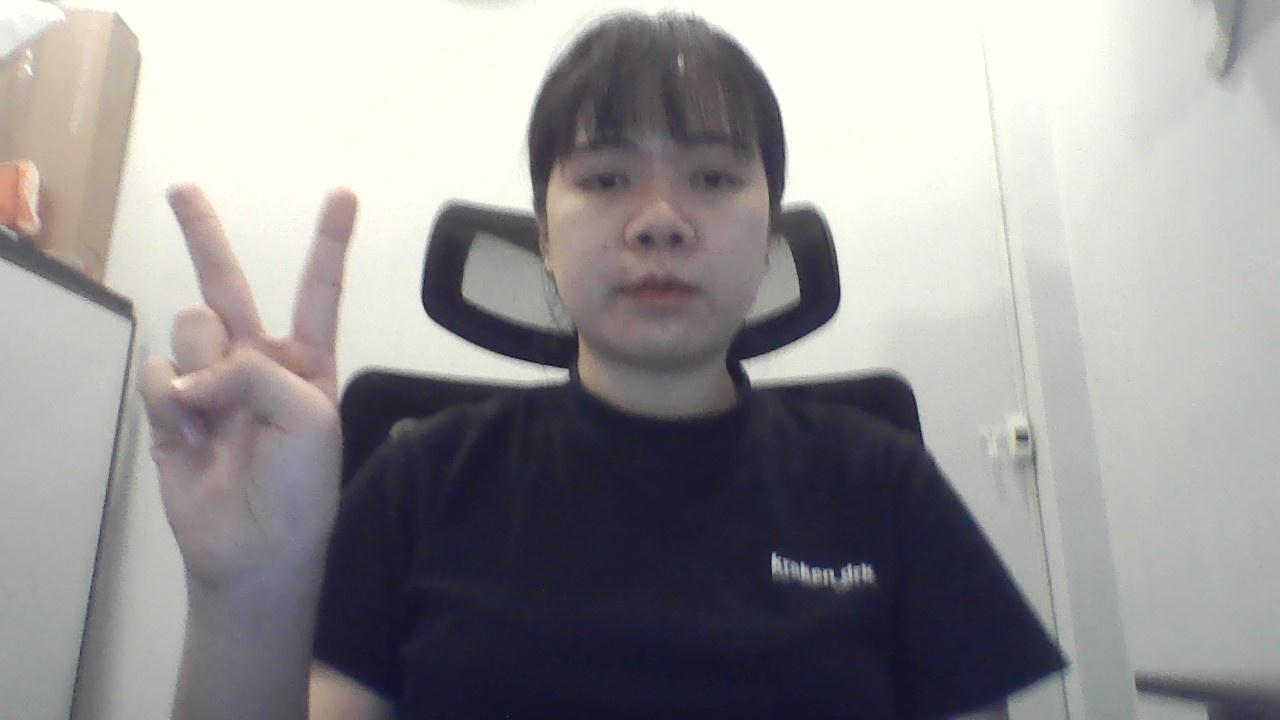V: (132, 167, 368, 650)
